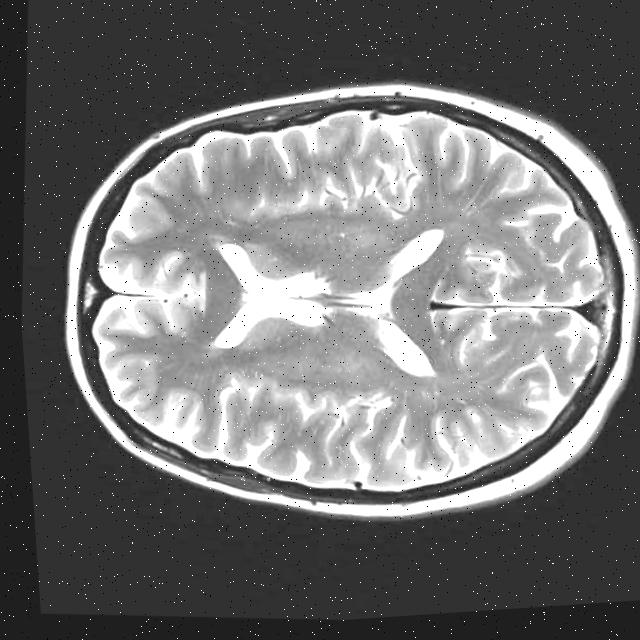NoTumor: (24, 28, 640, 568)
